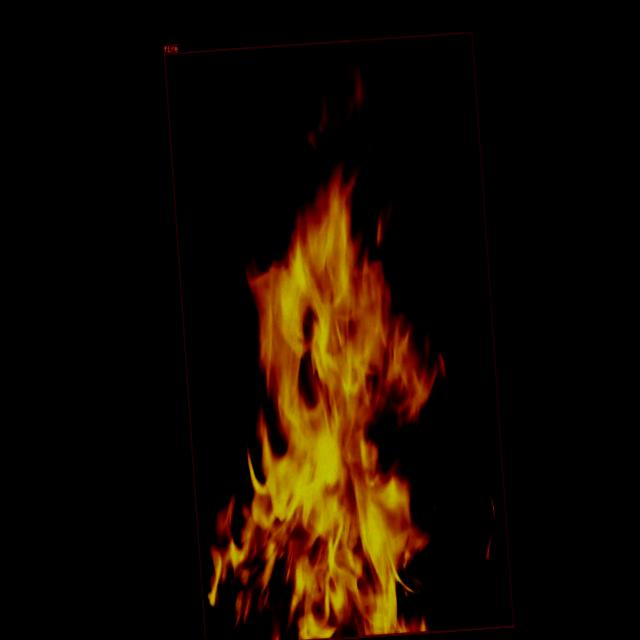fire: (162, 30, 513, 640)
